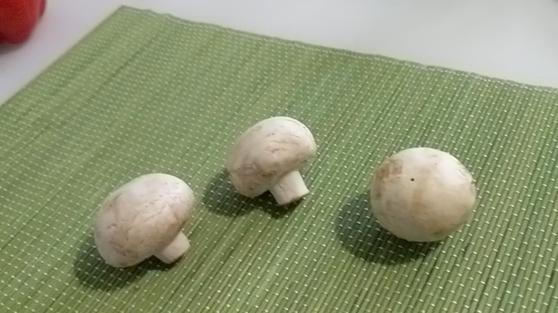champignon: (364, 144, 477, 242), (92, 170, 193, 269), (224, 115, 320, 210)
